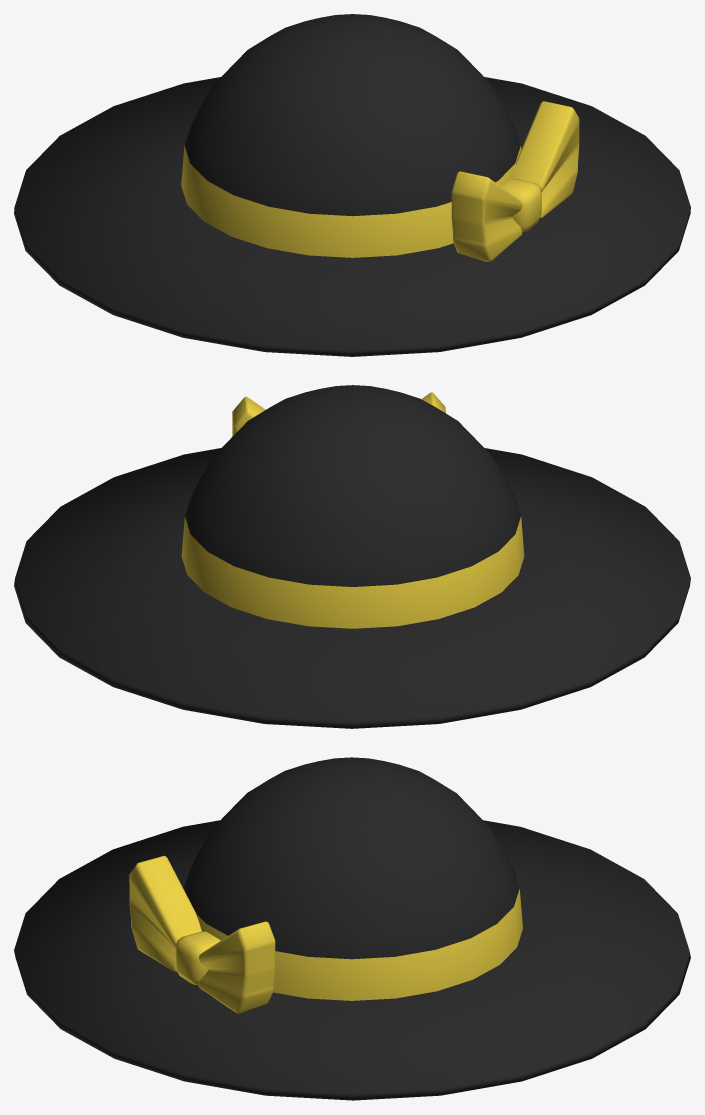
The model's file is puppetKoishiHat.fbx.
The picture shows the model from 3 angles, top to bottom: view 1: azimuth 30°, elevation 25°; view 2: azimuth 150°, elevation 25°; view 3: azimuth 270°, elevation 25°; orthographic projection.
Parts seen in each view (by area): view 1: Puppet Koishi Hat; view 2: Puppet Koishi Hat; view 3: Puppet Koishi Hat.
Part boxes in pixels (x1,y1,x2,y2): Puppet Koishi Hat: (14, 14, 690, 356); Puppet Koishi Hat: (14, 385, 690, 728); Puppet Koishi Hat: (14, 757, 690, 1100).
Bounding box in the file's own units: 144 × 144 × 43.21.
